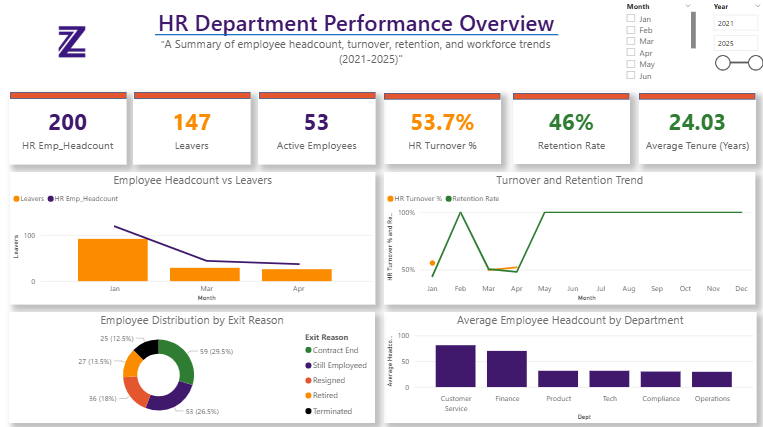

Layout of this report page (visuals, bound fields, positions):
{"tool":"powerbi","page":{"name":"HR","canvas":[1280,720],"ordinal":2},"visuals":[{"type":"textbox","box":[258.9,10,762.2,112.2],"z":0},{"type":"shape","box":[258.9,46.7,672.2,28.9],"z":1000},{"type":"group","id":"g1","title":"Group 1","box":[14.3,157.1,195.7,121.4],"z":2000},{"type":"card","fields":{"Values":["HR.HR Turnover %"]},"box":[640.3,156.7,195.4,120],"z":3000,"group":"g3"},{"type":"card","fields":{"Values":["HR.HR Emp_Headcount"]},"box":[14.3,157.1,195.8,121],"z":3000,"group":"g1"},{"type":"group","id":"g2","title":"Group 2","box":[221.4,157.1,195.7,121.4],"z":3000},{"type":"card","fields":{"Values":["HR.Leavers"]},"box":[221.4,157.1,195.8,121],"z":3000,"group":"g2"},{"type":"card","fields":{"Values":["HR.Active Employees"]},"box":[430,157.1,195.8,121],"z":3000,"group":"g7"},{"type":"card","fields":{"Values":["HR.Retention Rate"]},"box":[854.3,157.1,195.4,120],"z":3000,"group":"g4"},{"type":"card","fields":{"Values":["HR.Average Tenure (Years)"]},"box":[1065.7,157.1,195.4,120],"z":3000,"group":"g5"},{"type":"group","id":"g3","title":"Group 3","box":[640.3,156.7,195.4,120],"z":3004,"group":"g6"},{"type":"group","id":"g4","title":"Group 3","box":[854.3,157.1,195.4,120],"z":3004,"group":"g8"},{"type":"group","id":"g5","title":"Group 3","box":[1065.7,157.1,195.4,120],"z":3004,"group":"g9"},{"type":"group","id":"g6","title":"Group 2","box":[640.3,156.7,194,120.9],"z":4000},{"type":"shape","box":[222.8,157.1,194.4,11.5],"z":5000,"group":"g2"},{"type":"group","id":"g7","title":"Group 2","box":[430,157.1,194.3,120],"z":5000},{"type":"shape","box":[431.4,157.1,194.4,11.5],"z":5000,"group":"g7"},{"type":"shape","box":[640.3,158.7,193.8,10.8],"z":5000,"group":"g3"},{"type":"shape","box":[854.3,159.1,193.8,10.8],"z":5000,"group":"g4"},{"type":"shape","box":[1065.7,159.1,193.8,10.8],"z":5000,"group":"g5"},{"type":"shape","box":[15.7,157.1,194.4,11.5],"z":5500,"group":"g1"},{"type":"group","id":"g8","title":"Group 2","box":[854.3,157.1,194.3,120],"z":6000},{"type":"group","id":"g9","title":"Group 2","box":[1065.7,157.1,195.7,120],"z":7000},{"type":"lineStackedColumnComboChart","title":"Employee Headcount vs Leavers ","fields":{"Category":["Date.Month"],"Y":["HR.Leavers"],"Y2":["HR.HR Emp_Headcount"]},"box":[16.4,289.6,609,220.9],"z":8000},{"type":"lineChart","title":"Turnover and Retention Trend","fields":{"Category":["Date.Month"],"Y":["HR.HR Turnover %","HR.Retention Rate"]},"box":[640.3,289.6,619.4,220.9],"z":9000},{"type":"clusteredColumnChart","title":"Average Employee Headcount by Department","fields":{"Y":["HR.Average Headcount"],"Category":["HR.Dept"]},"box":[640.3,523.9,620.9,185.1],"z":10000},{"type":"donutChart","title":"Employee Distribution by Exit Reason ","fields":{"Y":["HR.HR Emp_Headcount"],"Category":["HR.Exit Reason"]},"box":[14.9,523.9,610.4,185.1],"z":11000},{"type":"slicer","fields":{"Values":["Date.Month"]},"box":[1031.3,0,132.8,146.3],"z":12000},{"type":"slicer","fields":{"Values":["Date.Year"]},"box":[1176.1,0,104.5,146.3],"z":13000},{"type":"image","box":[0,0,240,146.2],"z":14000}]}

Visuals, with their boxes in screenshot pixels (x1, y1, x2, y2), scaled from the page's 1280x720 canvas onto the 763x427 screenshot:
textbox: {"x1": 154, "y1": 6, "x2": 609, "y2": 72}
shape: {"x1": 154, "y1": 28, "x2": 555, "y2": 45}
"Group 1" group: {"x1": 9, "y1": 93, "x2": 125, "y2": 165}
card - HR.HR Turnover %: {"x1": 382, "y1": 93, "x2": 498, "y2": 164}
card - HR.HR Emp_Headcount: {"x1": 9, "y1": 93, "x2": 125, "y2": 165}
"Group 2" group: {"x1": 132, "y1": 93, "x2": 249, "y2": 165}
card - HR.Leavers: {"x1": 132, "y1": 93, "x2": 249, "y2": 165}
card - HR.Active Employees: {"x1": 256, "y1": 93, "x2": 373, "y2": 165}
card - HR.Retention Rate: {"x1": 509, "y1": 93, "x2": 626, "y2": 164}
card - HR.Average Tenure (Years): {"x1": 635, "y1": 93, "x2": 752, "y2": 164}
"Group 3" group: {"x1": 382, "y1": 93, "x2": 498, "y2": 164}
"Group 3" group: {"x1": 509, "y1": 93, "x2": 626, "y2": 164}
"Group 3" group: {"x1": 635, "y1": 93, "x2": 752, "y2": 164}
"Group 2" group: {"x1": 382, "y1": 93, "x2": 497, "y2": 165}
shape: {"x1": 133, "y1": 93, "x2": 249, "y2": 100}
"Group 2" group: {"x1": 256, "y1": 93, "x2": 372, "y2": 164}
shape: {"x1": 257, "y1": 93, "x2": 373, "y2": 100}
shape: {"x1": 382, "y1": 94, "x2": 497, "y2": 101}
shape: {"x1": 509, "y1": 94, "x2": 625, "y2": 101}
shape: {"x1": 635, "y1": 94, "x2": 751, "y2": 101}
shape: {"x1": 9, "y1": 93, "x2": 125, "y2": 100}
"Group 2" group: {"x1": 509, "y1": 93, "x2": 625, "y2": 164}
"Group 2" group: {"x1": 635, "y1": 93, "x2": 752, "y2": 164}
"Employee Headcount vs Leavers " lineStackedColumnComboChart: {"x1": 10, "y1": 172, "x2": 373, "y2": 303}
"Turnover and Retention Trend" lineChart: {"x1": 382, "y1": 172, "x2": 751, "y2": 303}
"Average Employee Headcount by Department" clusteredColumnChart: {"x1": 382, "y1": 311, "x2": 752, "y2": 420}
"Employee Distribution by Exit Reason " donutChart: {"x1": 9, "y1": 311, "x2": 373, "y2": 420}
slicer - Date.Month: {"x1": 615, "y1": 0, "x2": 694, "y2": 87}
slicer - Date.Year: {"x1": 701, "y1": 0, "x2": 762, "y2": 87}
image: {"x1": 0, "y1": 0, "x2": 143, "y2": 87}
